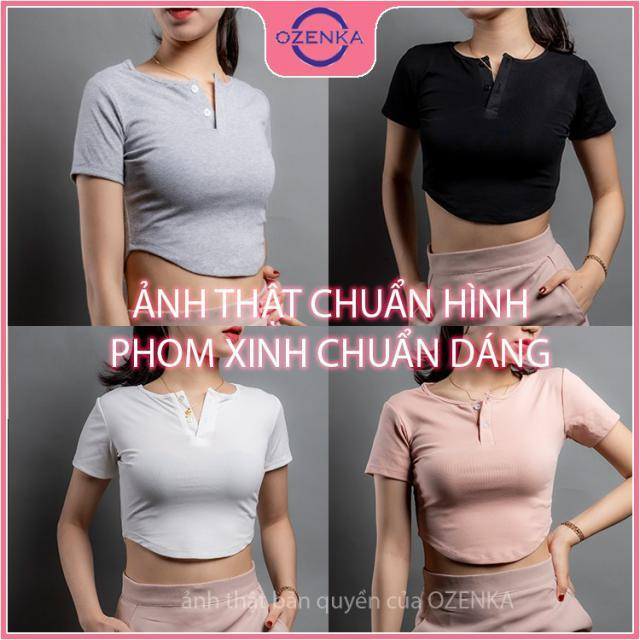Shirt: (361, 364, 624, 562), (69, 61, 283, 282), (384, 35, 620, 224), (69, 366, 292, 564)
